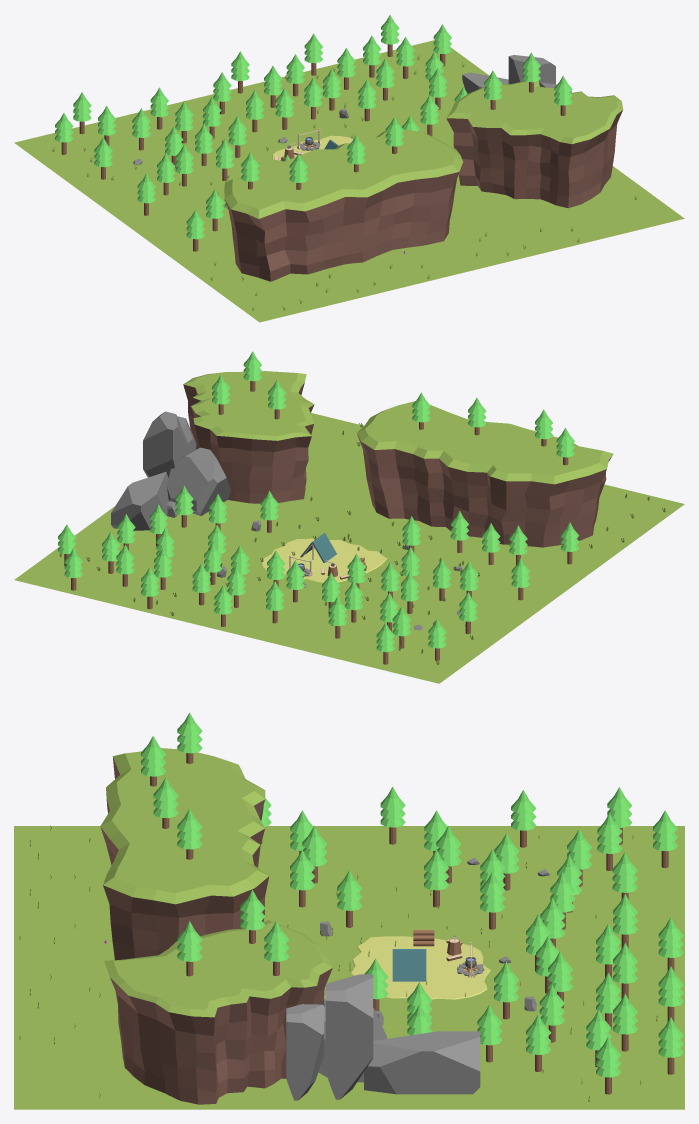
Rendered from survivalGame.glb.
3 views of the same model, one above another, from view 1: azimuth 30°, elevation 25°; view 2: azimuth 150°, elevation 25°; view 3: azimuth 270°, elevation 25° (orthographic). The views are drawn at different scales.
Visible parts, largest first — view 1: Plane, Plane.002, Plane.004, Plane.003, Plane.006, Cube, Plane.007, Cylinder.037, Cylinder.044, Cylinder.057, Cylinder.058, Cylinder.028 (+19 smaller); view 2: Plane, Plane.002, Plane.004, Plane.006, Plane.003, Cube.002, Plane.007, Cube, Cube.003; view 3: Plane, Plane.004, Plane.003, Plane.006, Plane.002, Cube.003, Cube, Plane.007, Cube.001, Plane.106, Cylinder.056, Cylinder.042 (+39 smaller).
Boxes of the visible parts, bbox=[...] form: Plane: bbox=[14, 40, 684, 322]; Plane.002: bbox=[225, 171, 459, 281]; Plane.004: bbox=[224, 129, 462, 218]; Plane.003: bbox=[446, 110, 622, 208]; Plane.006: bbox=[446, 81, 623, 144]; Cube: bbox=[508, 55, 555, 84]; Plane.007: bbox=[272, 135, 353, 160]; Cylinder.037: bbox=[228, 115, 246, 157]; Cylinder.044: bbox=[275, 88, 293, 129]; Cylinder.057: bbox=[396, 37, 414, 78]; Cylinder.058: bbox=[286, 54, 304, 96]; Cylinder.028: bbox=[358, 79, 376, 121]; Plane: bbox=[14, 413, 684, 683]; Plane.002: bbox=[357, 434, 612, 547]; Plane.004: bbox=[357, 401, 613, 484]; Plane.006: bbox=[183, 371, 313, 440]; Plane.003: bbox=[183, 382, 314, 503]; Cube.002: bbox=[167, 447, 230, 515]; Plane.007: bbox=[261, 538, 387, 582]; Cube: bbox=[143, 411, 190, 477]; Cube.003: bbox=[111, 472, 168, 530]; Plane: bbox=[14, 826, 684, 1109]; Plane.004: bbox=[100, 748, 268, 904]; Plane.003: bbox=[110, 968, 332, 1104]; Plane.006: bbox=[104, 920, 332, 1017]; Plane.002: bbox=[100, 756, 269, 960]; Cube.003: bbox=[364, 1031, 480, 1094]; Cube: bbox=[325, 974, 373, 1099]; Plane.007: bbox=[350, 936, 490, 999]; Cube.001: bbox=[286, 1004, 323, 1100]; Plane.106: bbox=[392, 949, 426, 981]; Cylinder.056: bbox=[658, 1017, 683, 1074]; Cylinder.042: bbox=[380, 787, 405, 844].
Size of the model in its own units: 40.28 by 10.38 by 40.
